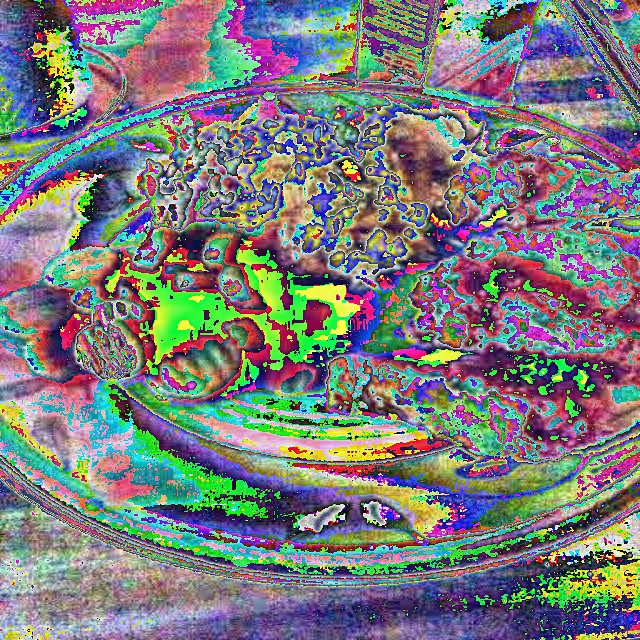background: (0, 104, 640, 462)
